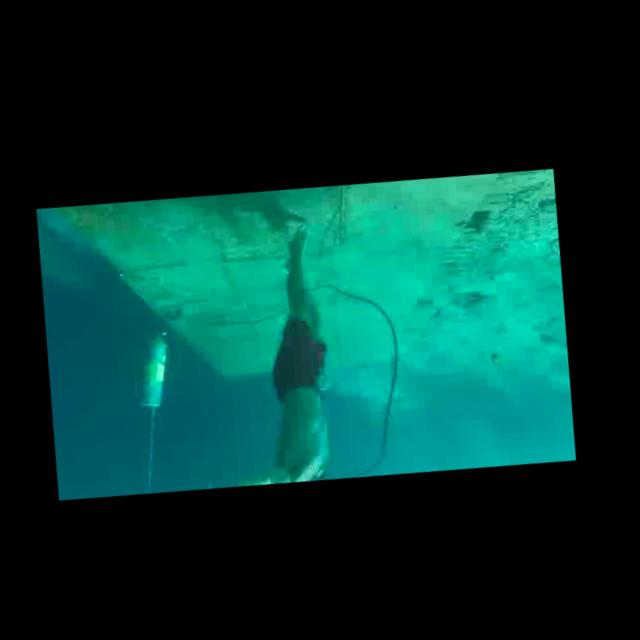human: (158, 210, 362, 494)
